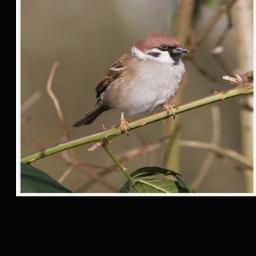Sparrow: (68, 31, 193, 136)
